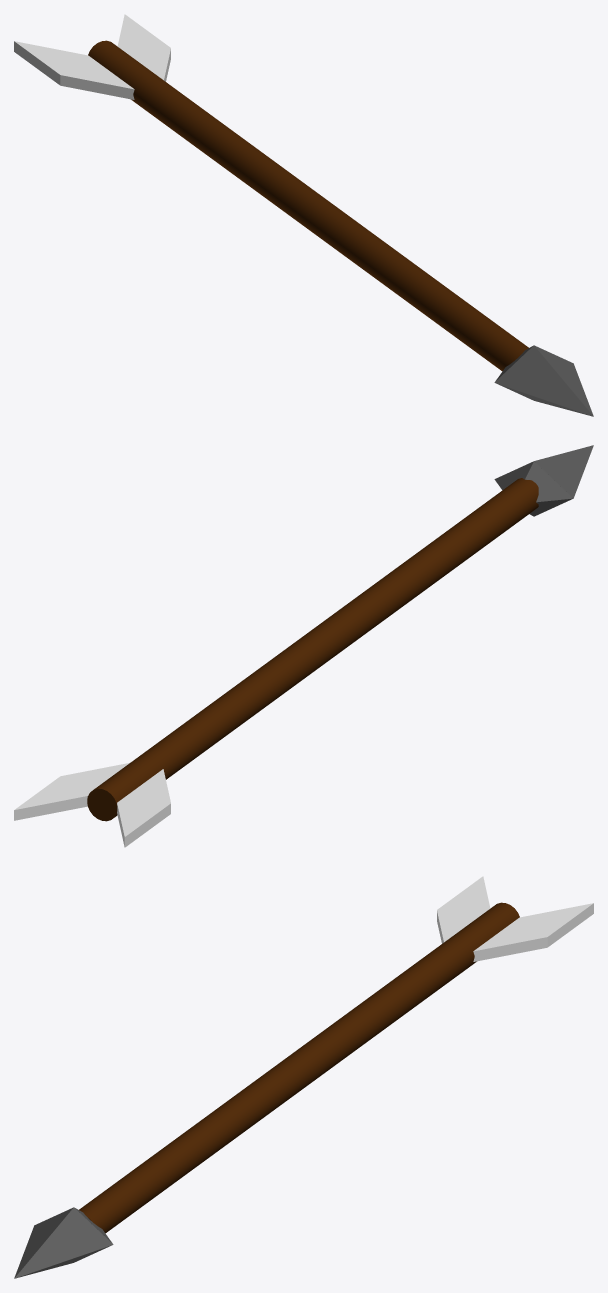
Rendered from Arrow.fbx.
3 views of the same model, one above another, from view 1: azimuth 30°, elevation 25°; view 2: azimuth 150°, elevation 25°; view 3: azimuth 330°, elevation 25° (orthographic).
Parts seen in each view (by area): view 1: polySurface6, polySurface8, polySurface9; view 2: polySurface6, polySurface8, polySurface9; view 3: polySurface6, polySurface8, polySurface9.
Part boxes in pixels (x1,y1,x2,y2): polySurface6: (88,40,528,371); polySurface8: (14,14,170,99); polySurface9: (494,345,593,416); polySurface6: (87,478,538,821); polySurface8: (14,763,170,847); polySurface9: (494,445,593,516); polySurface6: (79,902,519,1233); polySurface8: (437,876,593,961); polySurface9: (14,1207,113,1278).
Bounding box in the file's own units: 2.95 × 1.41 × 24.18.
